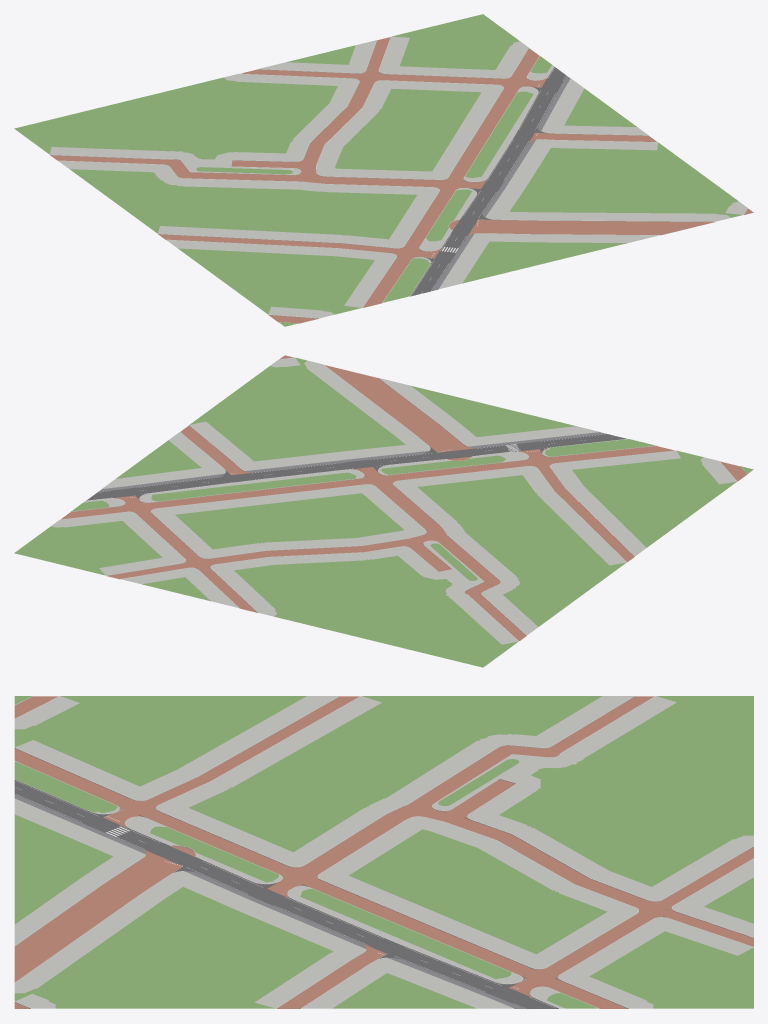
The model's file is ground_4_9.glb.
3 renders of one model, top to bottom at view 1: azimuth 30°, elevation 25°; view 2: azimuth 150°, elevation 25°; view 3: azimuth 270°, elevation 25°, orthographic. The views are drawn at different scales.
Visible parts, largest first — view 1: ground_4_9; view 2: ground_4_9; view 3: ground_4_9.
Part boxes in pixels (left/top/right/bottom): ground_4_9: left=14, top=14, right=753, bottom=326; ground_4_9: left=14, top=355, right=753, bottom=667; ground_4_9: left=14, top=696, right=753, bottom=1009.
Size of the model in its own units: 201 by 0.12 by 200.
